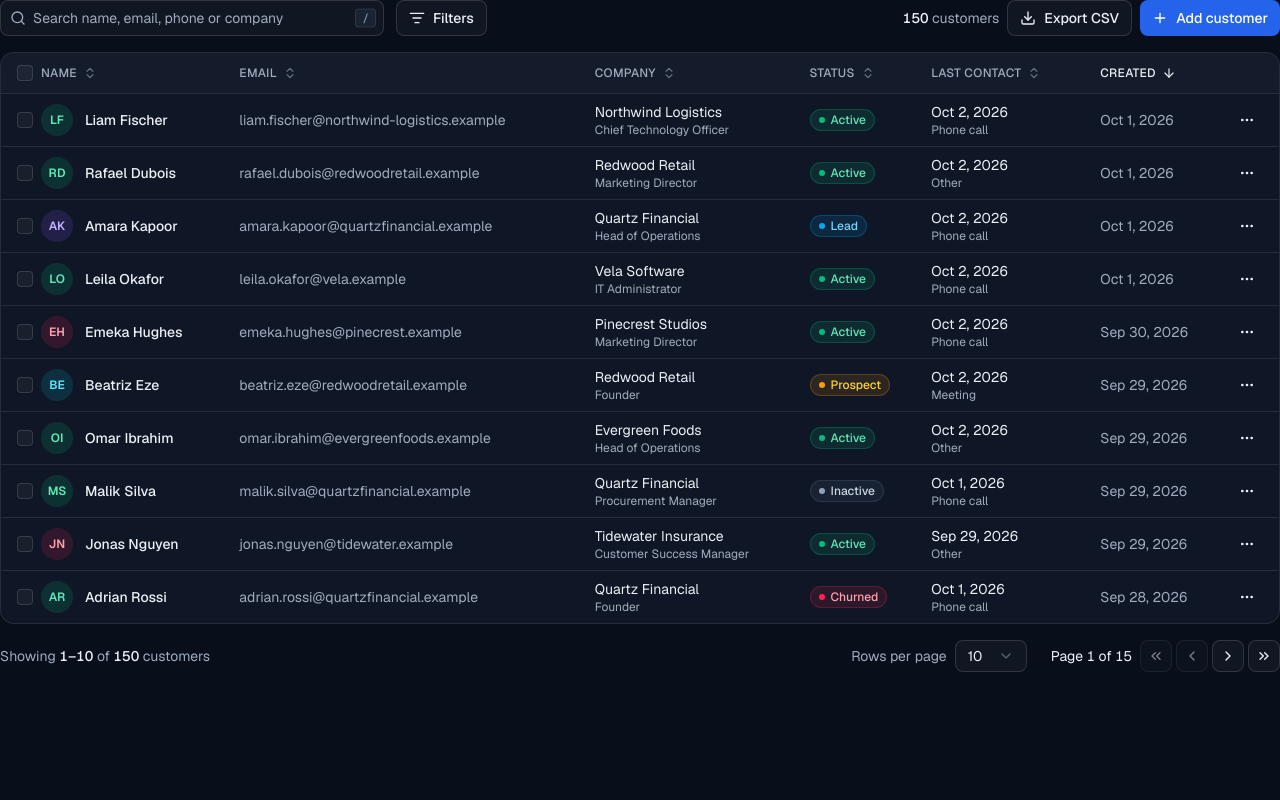
Test case: customer CRUD, details, contact and notes › details drawer › shows an error with Retry, and recovers
The width and height of the screenshot is (1280, 800).
What coordinates should you click on to do the following:
click the button "Liam Fischer"
I would click on:
 (126, 120)
Its box is [85,110,168,130].
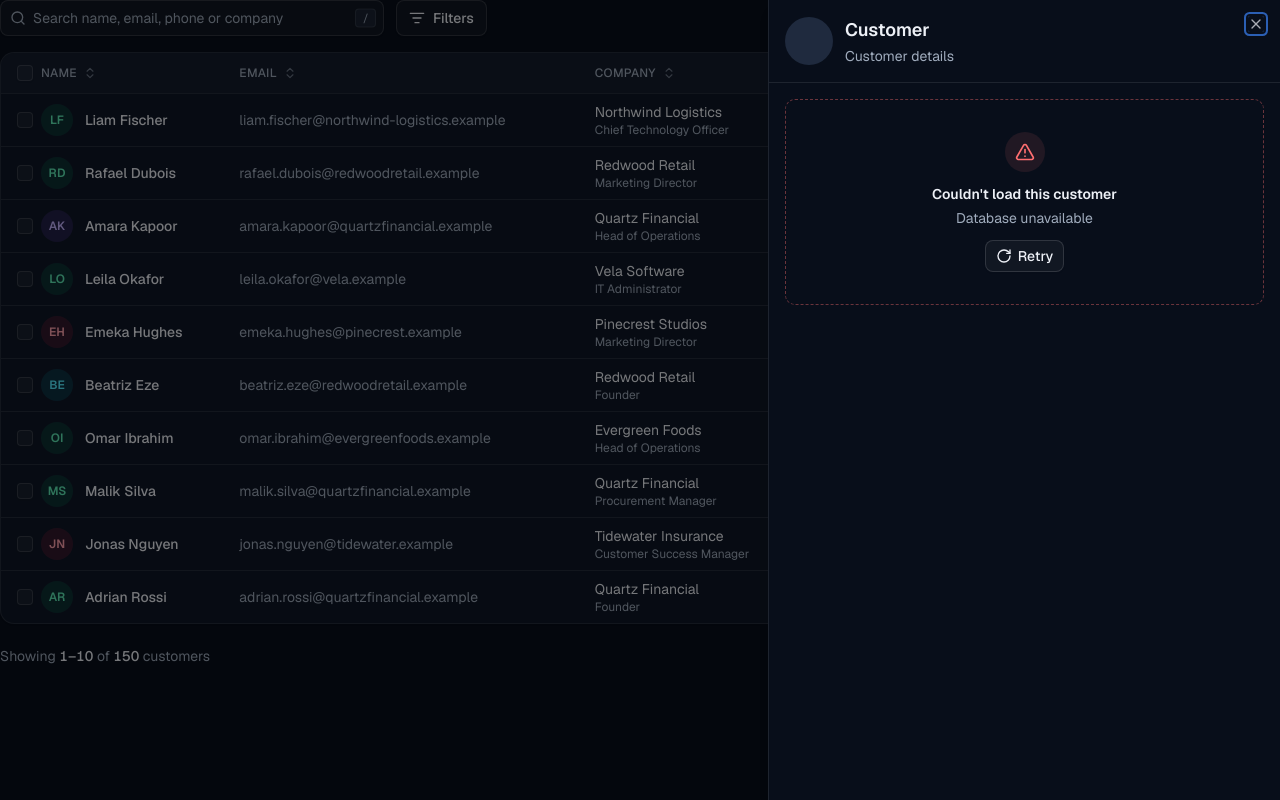
Check: the message shows "Couldn't load this customer", box [932,185,1117,203]
Check: the message shows "Database unavailable", box [956,209,1093,227]
What coordinates should you click on to do the following:
click the button "Retry"
I would click on:
 (1024, 256)
Its box is [985,240,1064,272].
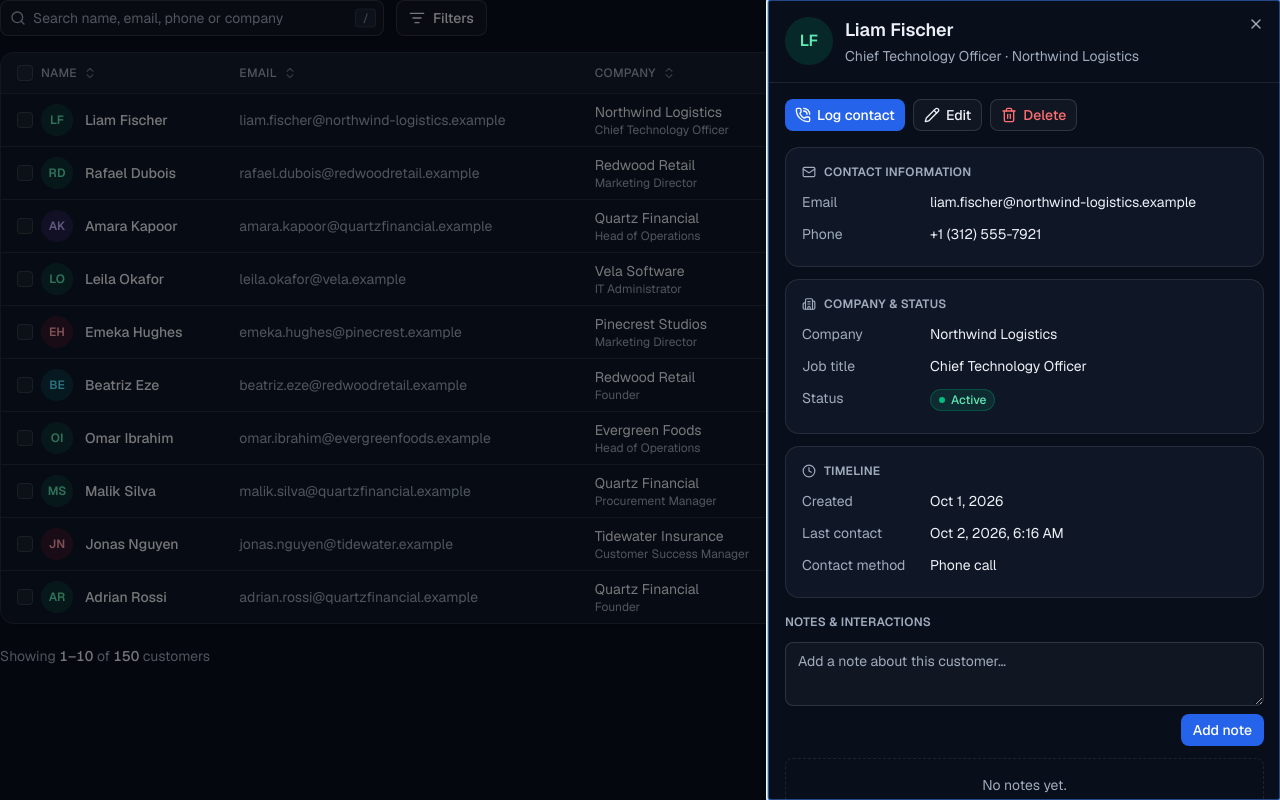
Check: the message "Couldn't load this customer Database unavailable Retry" is gone
